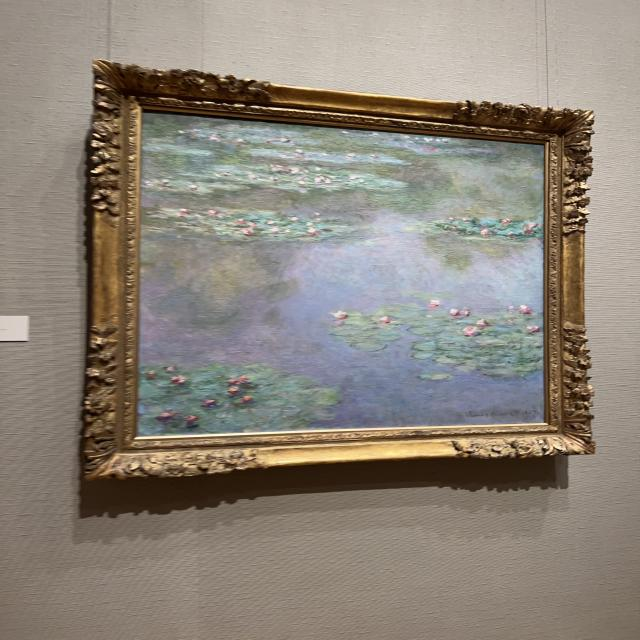lilies: (140, 116, 542, 433)
